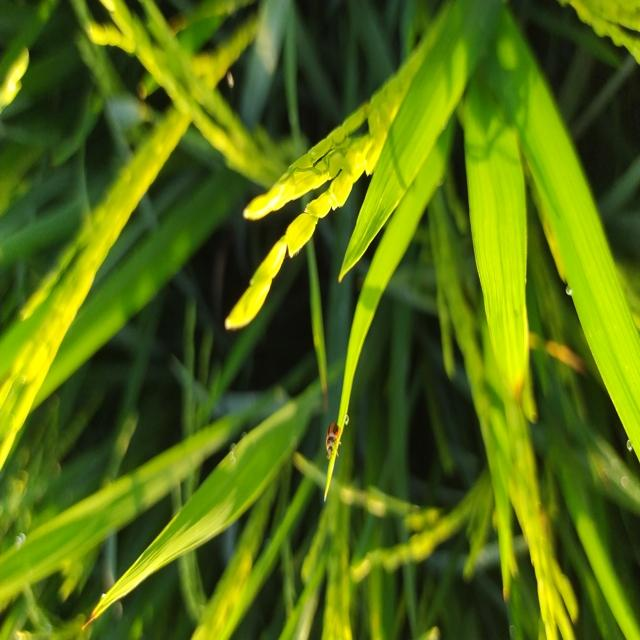Brown spot: (74, 598, 103, 638), (507, 374, 535, 409)
